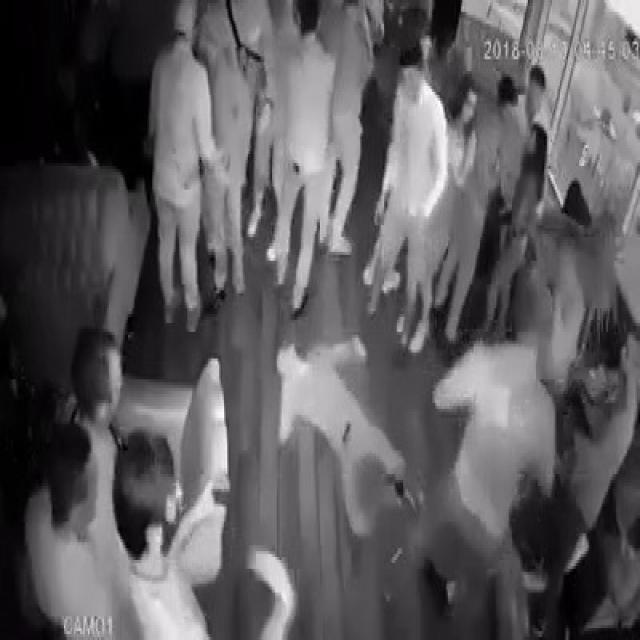fight: (428, 209, 598, 640)
